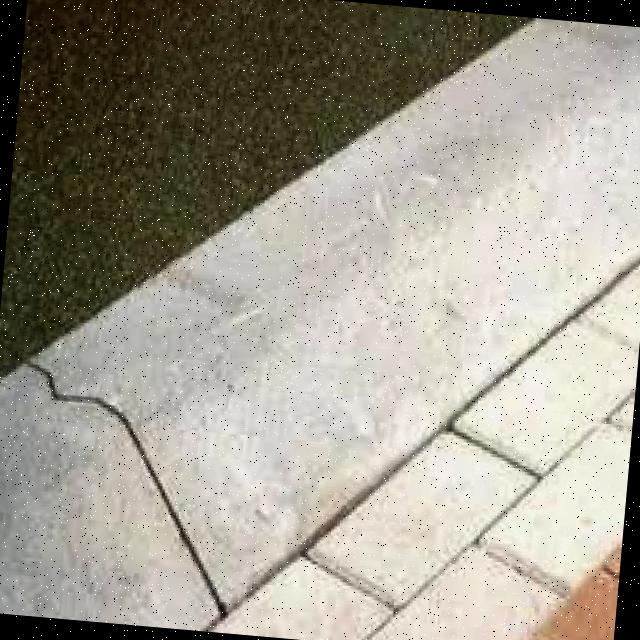curb: (1, 23, 640, 631)
